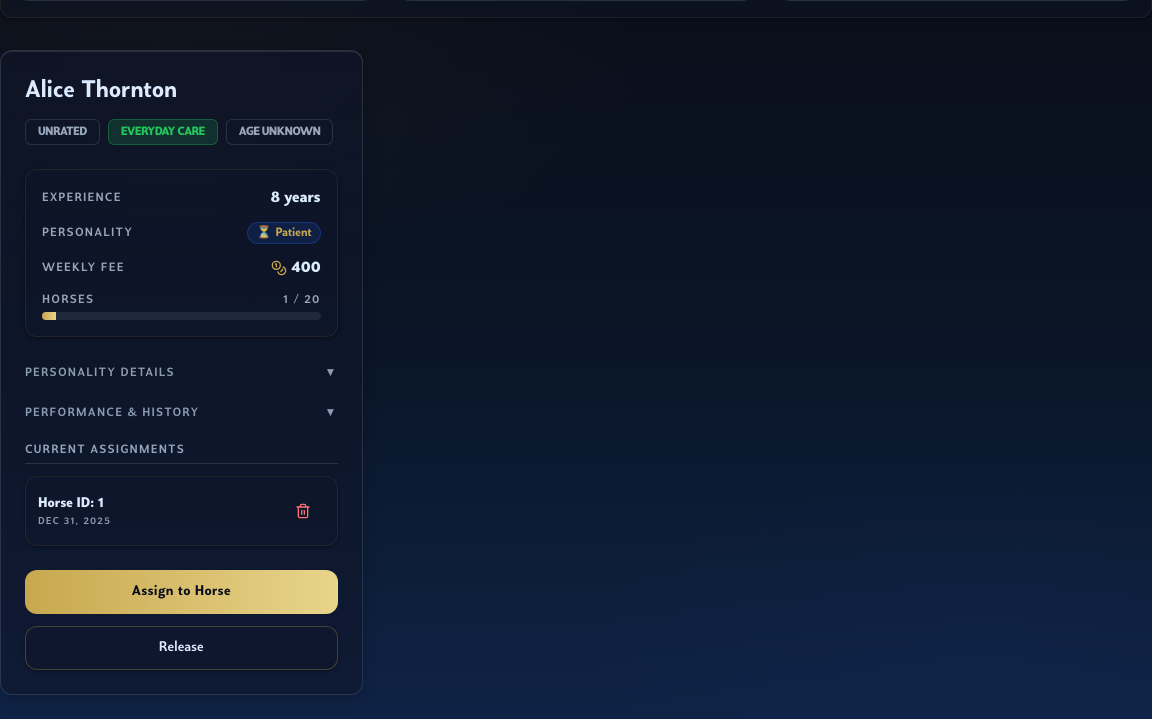
Test: MyGroomsDashboard — silent-mutation feedback (Equoria-mljz9) › a failed unassign shows an announced error beside the control (no raw server leak)
(page scrolled)
Expected: the element with test id "groom-grid" is shown, [0,50,363,695]
Click the button named "unassign groom" at (303, 511), box [281,489,325,533]
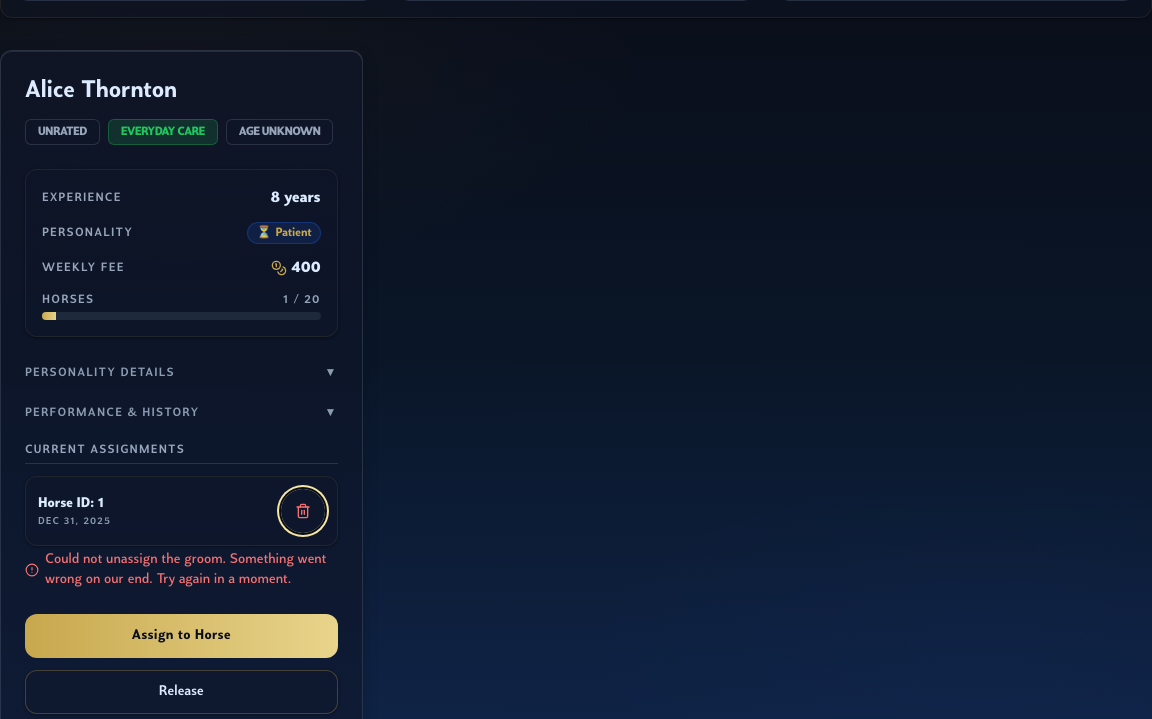
Expected: the text "Could not unassign the groom" is shown, [45,552,326,587]
